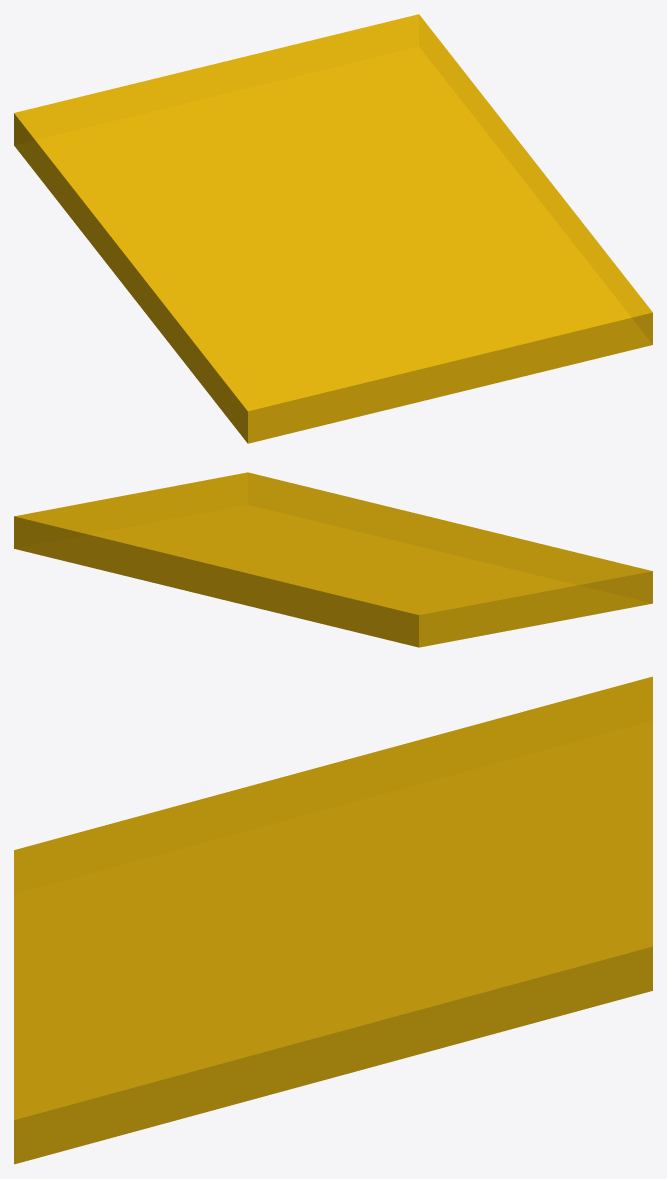
Rendered from SM_Bld_Roof_01_Collision.fbx.
The picture shows the model from 3 angles, top to bottom: view 1: azimuth 30°, elevation 25°; view 2: azimuth 150°, elevation 25°; view 3: azimuth 270°, elevation 25°; orthographic projection. The views are drawn at different scales.
Visible parts, largest first — view 1: SM_Bld_Roof_01_Collision; view 2: SM_Bld_Roof_01_Collision; view 3: SM_Bld_Roof_01_Collision.
Part boxes in pixels (x1,y1,x2,y2): SM_Bld_Roof_01_Collision: (14,14,652,443); SM_Bld_Roof_01_Collision: (14,472,652,647); SM_Bld_Roof_01_Collision: (14,676,652,1164).
Size of the model in its own units: 250 by 94.12 by 250.
